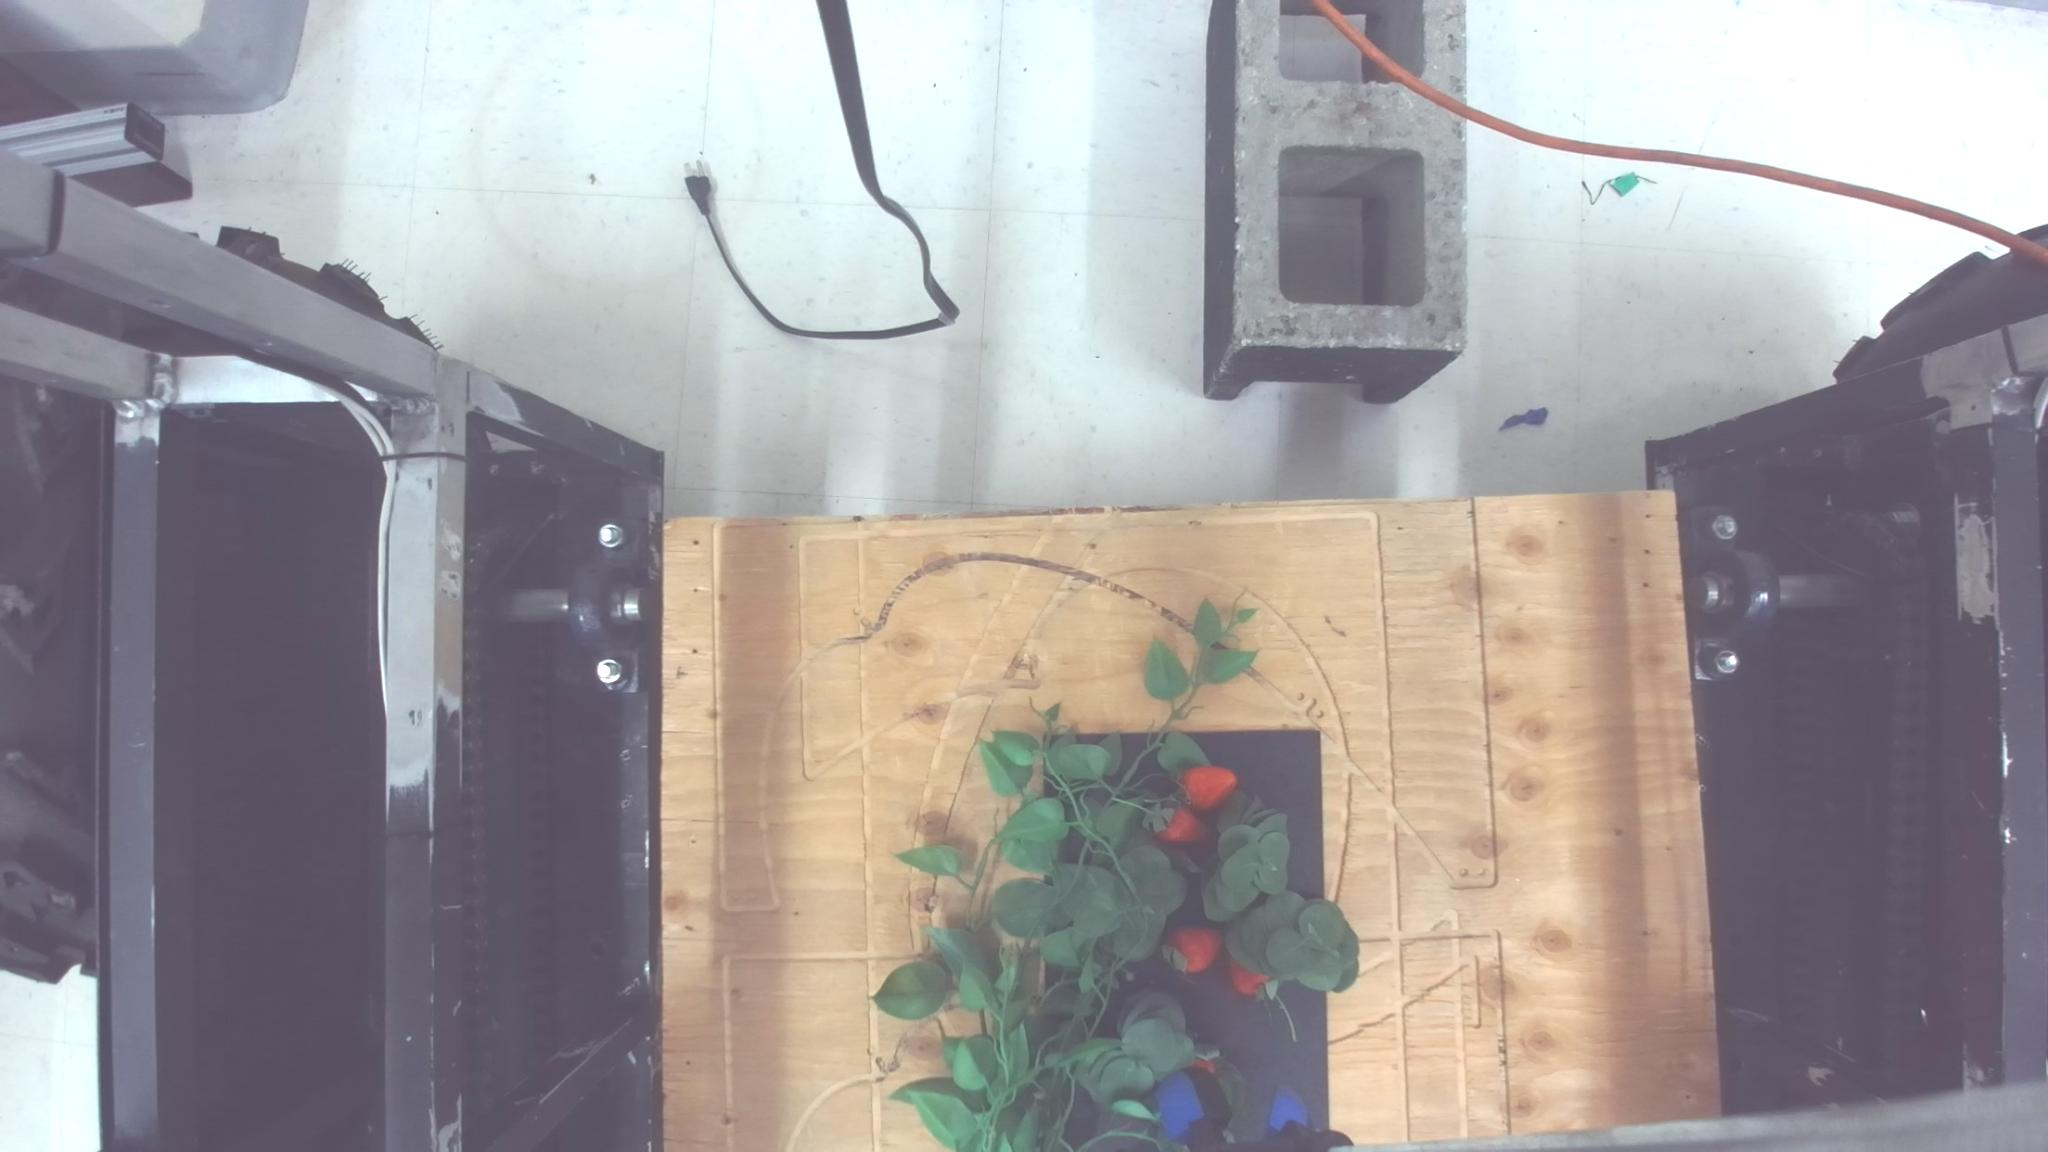mature: (1160, 924, 1222, 976), (1176, 764, 1238, 810), (1153, 806, 1208, 844), (1227, 958, 1272, 997)
